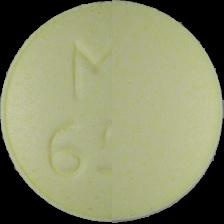63187-202: (0, 0, 224, 224)
